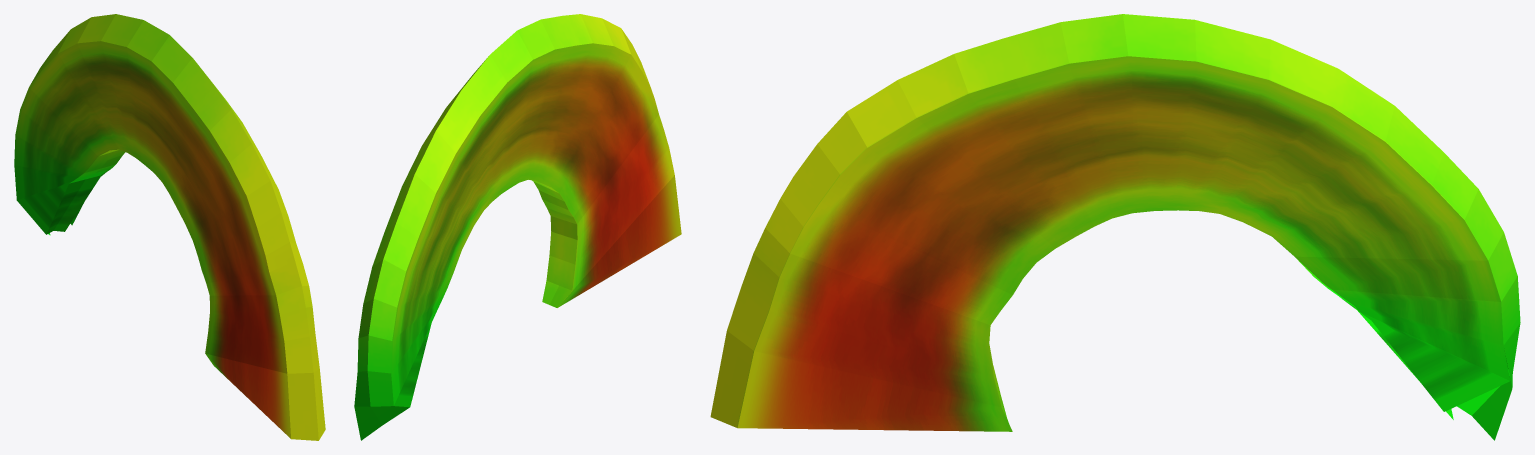
File: ROLL_SLASH.fbx
3 renders of one model, left to right at view 1: azimuth 30°, elevation 25°; view 2: azimuth 150°, elevation 25°; view 3: azimuth 270°, elevation 25°, orthographic. The views are drawn at different scales.
Parts seen in each view (by area): view 1: MeshBaker_mesh_mesh; view 2: MeshBaker_mesh_mesh; view 3: MeshBaker_mesh_mesh.
Boxes of the visible parts, x1=… form: MeshBaker_mesh_mesh: x1=14, y1=14, x2=325, y2=440; MeshBaker_mesh_mesh: x1=354, y1=14, x2=681, y2=440; MeshBaker_mesh_mesh: x1=710, y1=14, x2=1520, y2=440.
Bounding box in the file's own units: 53 × 396 × 699.
Materials: 1 (1 with a texture image).
